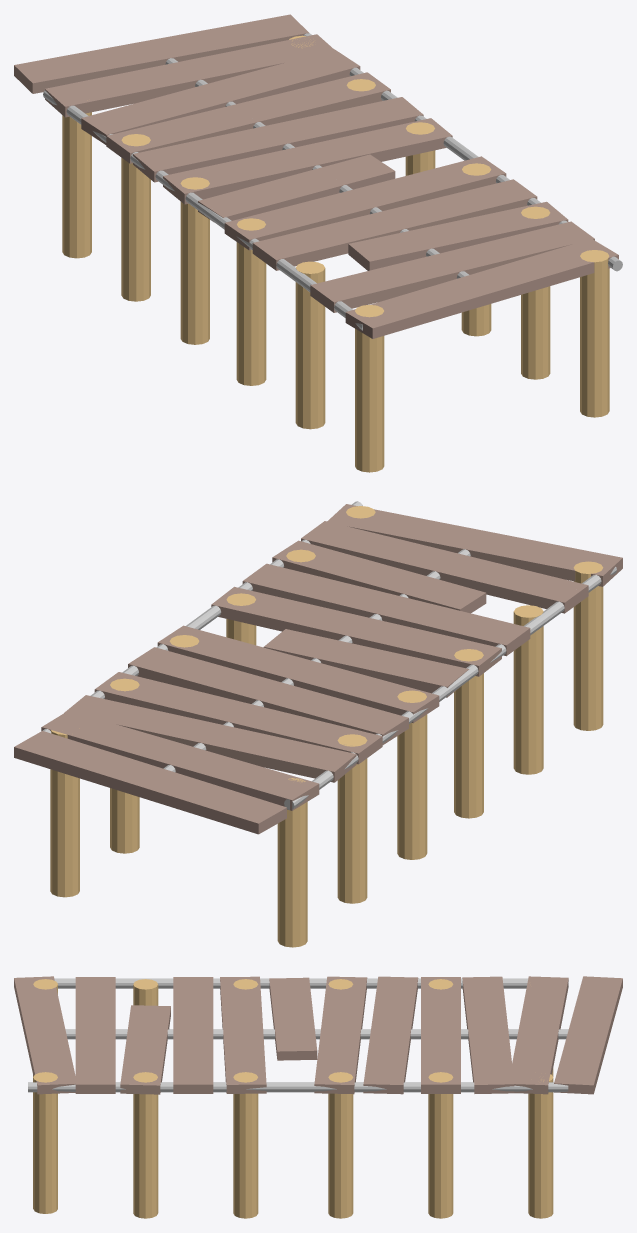
The model's file is BOARDWALK 0.fbx.
The picture shows the model from 3 angles, top to bottom: view 1: azimuth 30°, elevation 25°; view 2: azimuth 150°, elevation 25°; view 3: azimuth 270°, elevation 25°; orthographic projection. The views are drawn at different scales.
Parts seen in each view (by area): view 1: group468694053, group1890098917, group1995722512, group87496227, group1947173566, group2048345210, group818875020, group1706770614, group1365807431, group1432572726, group794070717, group1963344325 (+12 smaller); view 2: group1890098917, group87496227, group1995722512, group2048345210, group1947173566, group1365807431, group1706770614, group818875020, group468694053, group1432572726, group794070717, group1963344325 (+12 smaller); view 3: group1890098917, group2048345210, group1947173566, group1995722512, group87496227, group1706770614, group468694053, group818875020, group1365807431, group1432572726, group794070717, group1775137350 (+10 smaller).
Boxes of the visible parts, box(x1,y1,x2,y2) form: group468694053: box(345, 238, 618, 338); group1890098917: box(14, 14, 308, 93); group1995722512: box(252, 179, 537, 270); group87496227: box(310, 221, 594, 312); group1947173566: box(133, 97, 423, 182); group2048345210: box(45, 34, 336, 117); group818875020: box(163, 118, 452, 204); group1706770614: box(81, 49, 360, 144); group1365807431: box(224, 156, 506, 250); group1432572726: box(106, 72, 390, 163); group794070717: box(348, 201, 568, 270); group1963344325: box(198, 154, 395, 221); group1890098917: box(14, 731, 286, 834); group87496227: box(301, 521, 588, 613); group1995722512: box(242, 563, 530, 656); group2048345210: box(41, 710, 319, 810); group1947173566: box(128, 647, 408, 744); group1365807431: box(211, 586, 501, 676); group1706770614: box(64, 695, 356, 782); group818875020: box(157, 625, 439, 723); group468694053: box(326, 504, 622, 586); group1432572726: box(94, 672, 382, 764); group794070717: box(272, 540, 486, 613); group1963344325: box(263, 629, 468, 697); group1890098917: box(554, 976, 622, 1094); group2048345210: box(508, 976, 568, 1094); group1947173566: box(363, 976, 418, 1094); group1995722512: box(173, 977, 213, 1093); group87496227: box(75, 977, 115, 1093); group1706770614: box(462, 976, 514, 1093); group468694053: box(14, 976, 76, 1094); group818875020: box(314, 976, 367, 1094); group1365807431: box(220, 976, 266, 1093); group1432572726: box(421, 977, 460, 1093); group794070717: box(120, 1005, 170, 1094); group1775137350: box(233, 1072, 258, 1218).
Size of the model in its own units: 51.68 by 30 by 122.
